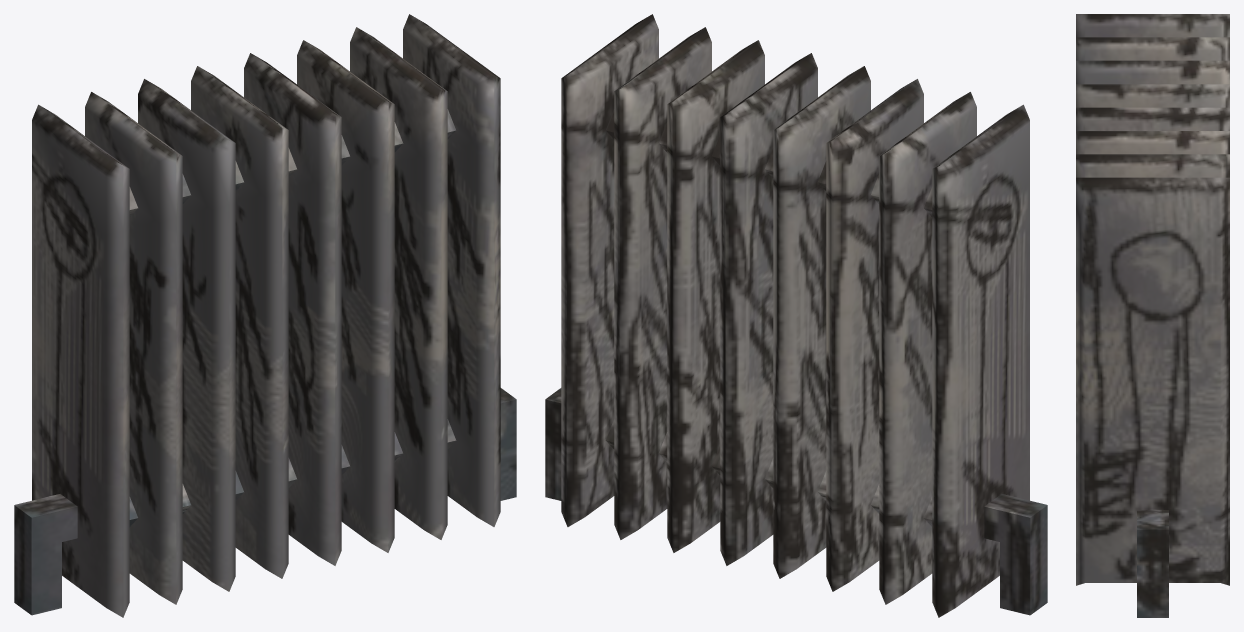
File: batary.fbx
The picture shows the model from 3 angles, left to right: view 1: azimuth 30°, elevation 25°; view 2: azimuth 150°, elevation 25°; view 3: azimuth 270°, elevation 25°; orthographic projection. The views are drawn at different scales.
Parts seen in each view (by area): view 1: Window.002; view 2: Window.002; view 3: Window.002.
Part boxes in pixels (<box>): Window.002: <box>14,14,516,617</box>; Window.002: <box>545,14,1047,617</box>; Window.002: <box>1076,14,1229,617</box>.
Bounding box in the file's own units: 83.45 × 75.5 × 25.33.
